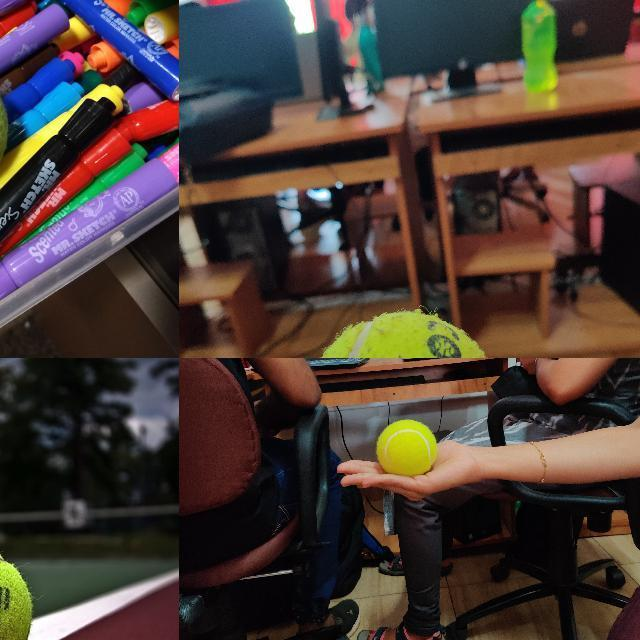tennis-ball: (302, 312, 504, 357), (376, 420, 436, 472)
